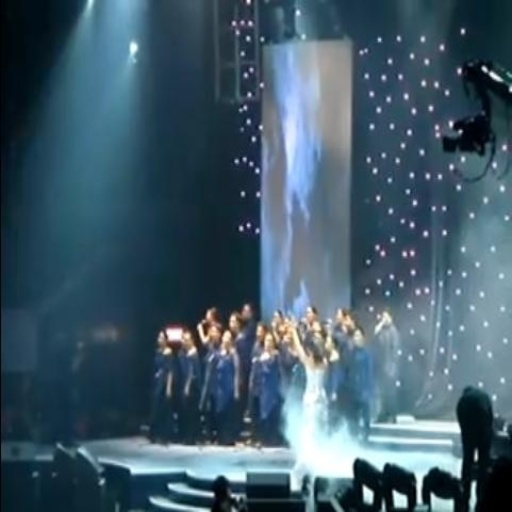hand: (288, 322, 294, 332)
